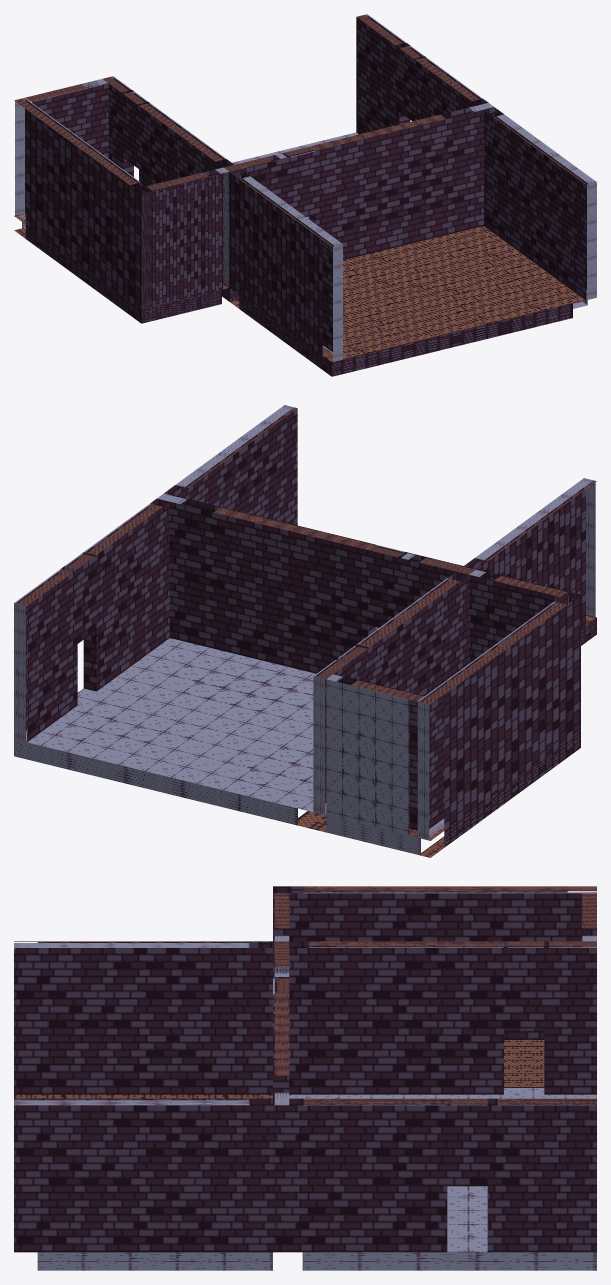
Rendered from KitchenNStorage.fbx.
The picture shows the model from 3 angles, top to bottom: view 1: azimuth 30°, elevation 25°; view 2: azimuth 150°, elevation 25°; view 3: azimuth 270°, elevation 25°; orthographic projection. The views are drawn at different scales.
Visible parts, largest first — view 1: Cube; view 2: Cube; view 3: Cube.
Part boxes in pixels (x1,y1,x2,y2): Cube: (14, 14, 596, 376); Cube: (14, 405, 596, 857); Cube: (14, 886, 596, 1270).
Size of the model in its own units: 2560 by 2880 by 900.
Materials: 1 (1 with a texture image).
